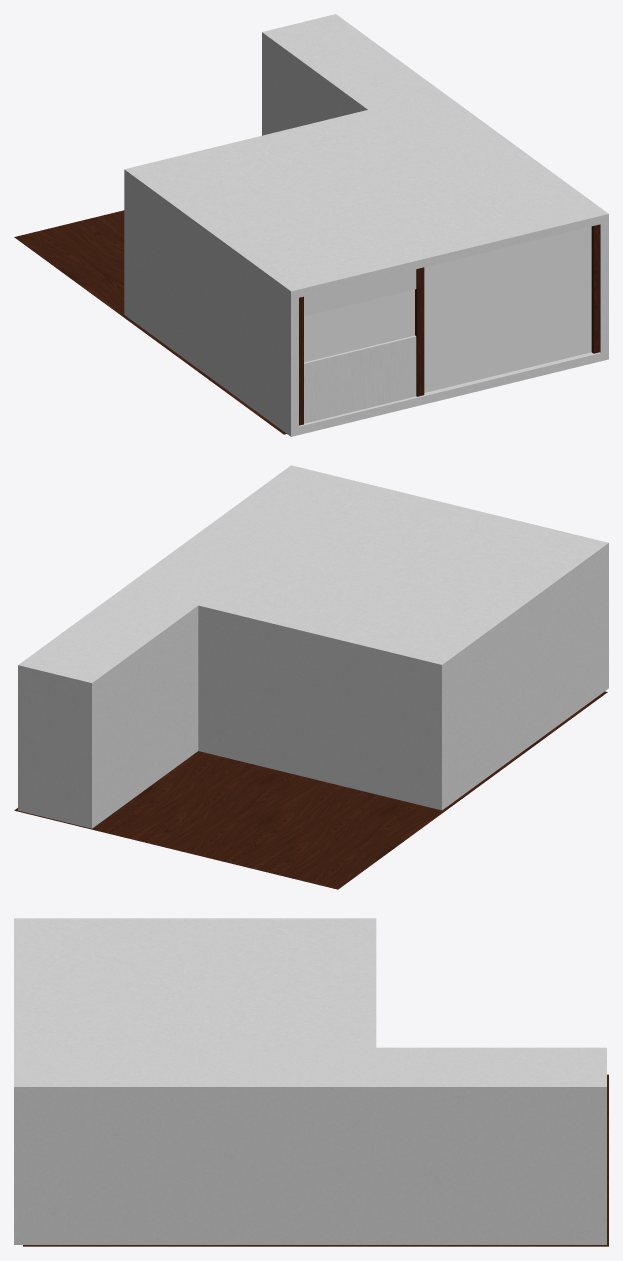
The model's file is room2.fbx.
3 renders of one model, top to bottom at view 1: azimuth 30°, elevation 25°; view 2: azimuth 150°, elevation 25°; view 3: azimuth 270°, elevation 25°, orthographic. The views are drawn at different scales.
Visible parts, largest first — view 1: room, room-window, window-glass, room-floor, window-glass2; view 2: room, room-floor, room-window; view 3: room, room-window, room-floor.
Part boxes in pixels (bbox=[...]): room: bbox=[124, 14, 602, 431]; room-window: bbox=[285, 209, 608, 436]; window-glass: bbox=[424, 226, 591, 392]; room-floor: bbox=[14, 210, 286, 434]; window-glass2: bbox=[304, 289, 414, 362]; room: bbox=[18, 470, 602, 828]; room-floor: bbox=[14, 691, 607, 889]; room-window: bbox=[285, 465, 608, 692]; room: bbox=[27, 918, 606, 1244]; room-window: bbox=[14, 918, 27, 1244]; room-floor: bbox=[23, 1074, 608, 1246].
Bounding box in the file's own units: 8.16 × 3.5 × 11.95.
